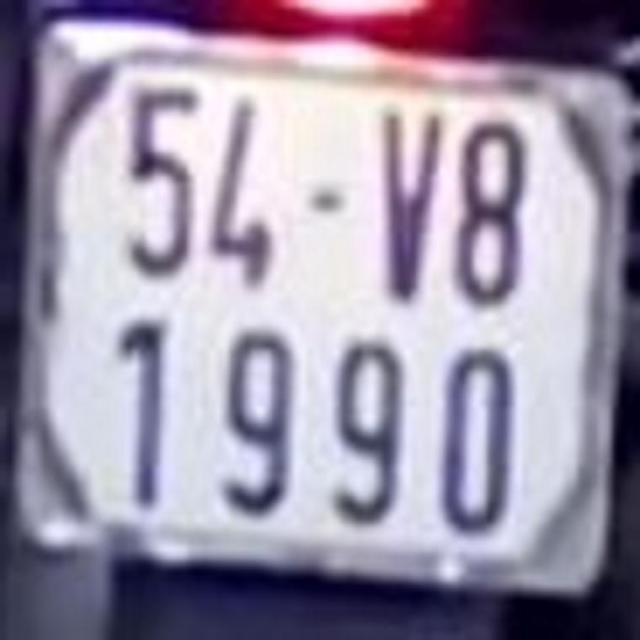0: (435, 344, 517, 538)
1: (112, 311, 174, 507)
4: (208, 88, 275, 291)
5: (123, 76, 193, 276)
8: (451, 110, 532, 308)
9: (329, 330, 403, 527), (221, 323, 294, 514)
V: (371, 103, 442, 307)
